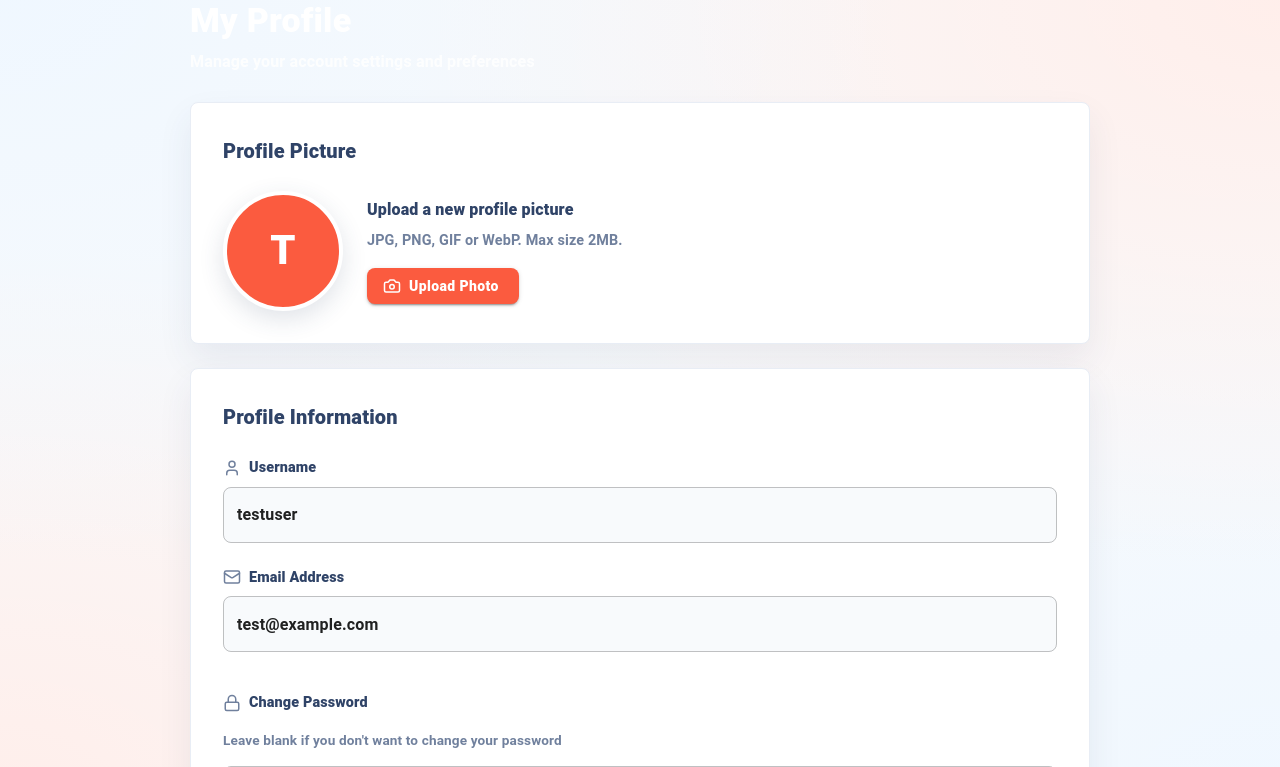
Profile Page › Form Validation › should show error for username less than 3 characters
This screenshot has width=1280, height=767.
Replace the text in the field with placeholder "Enter your username" below "Username" with "ab" at (640, 515), box [223,487,1057,543]
(page scrolled)
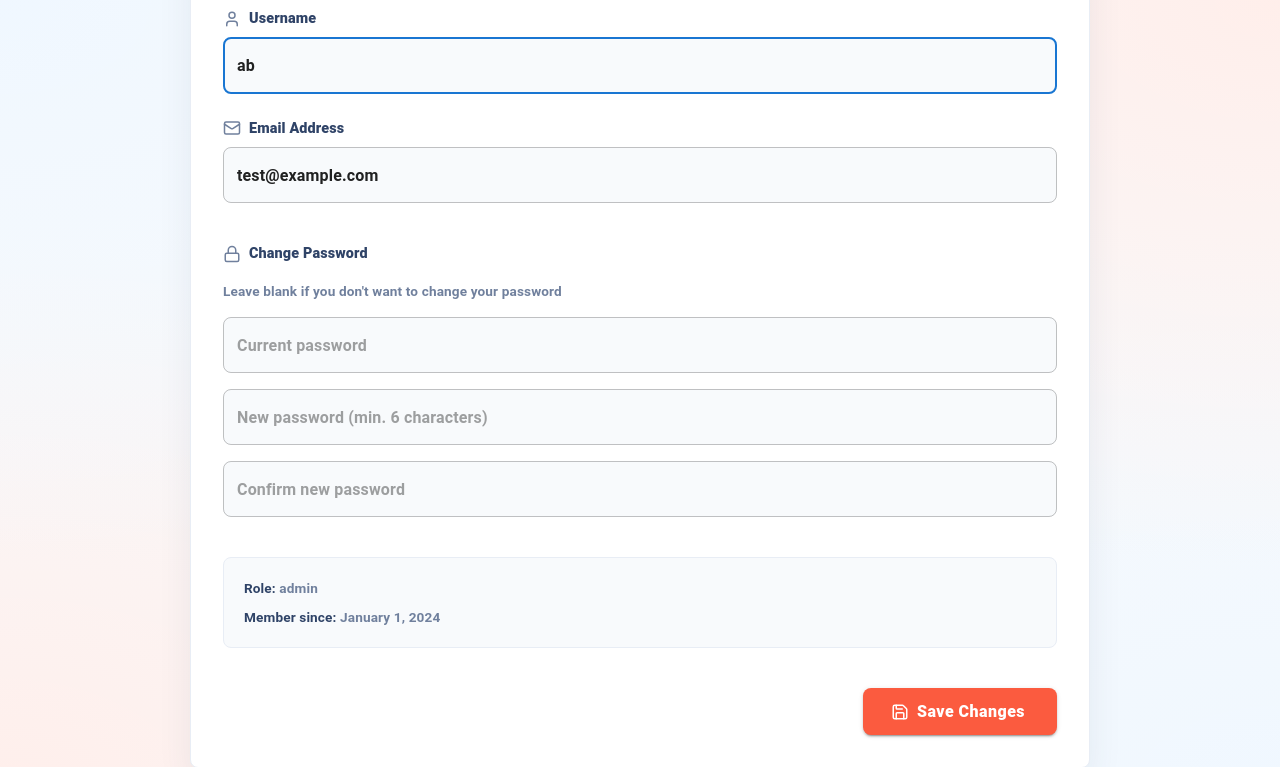
Click the button "Save Changes" at (960, 712), box [863,688,1057,735]
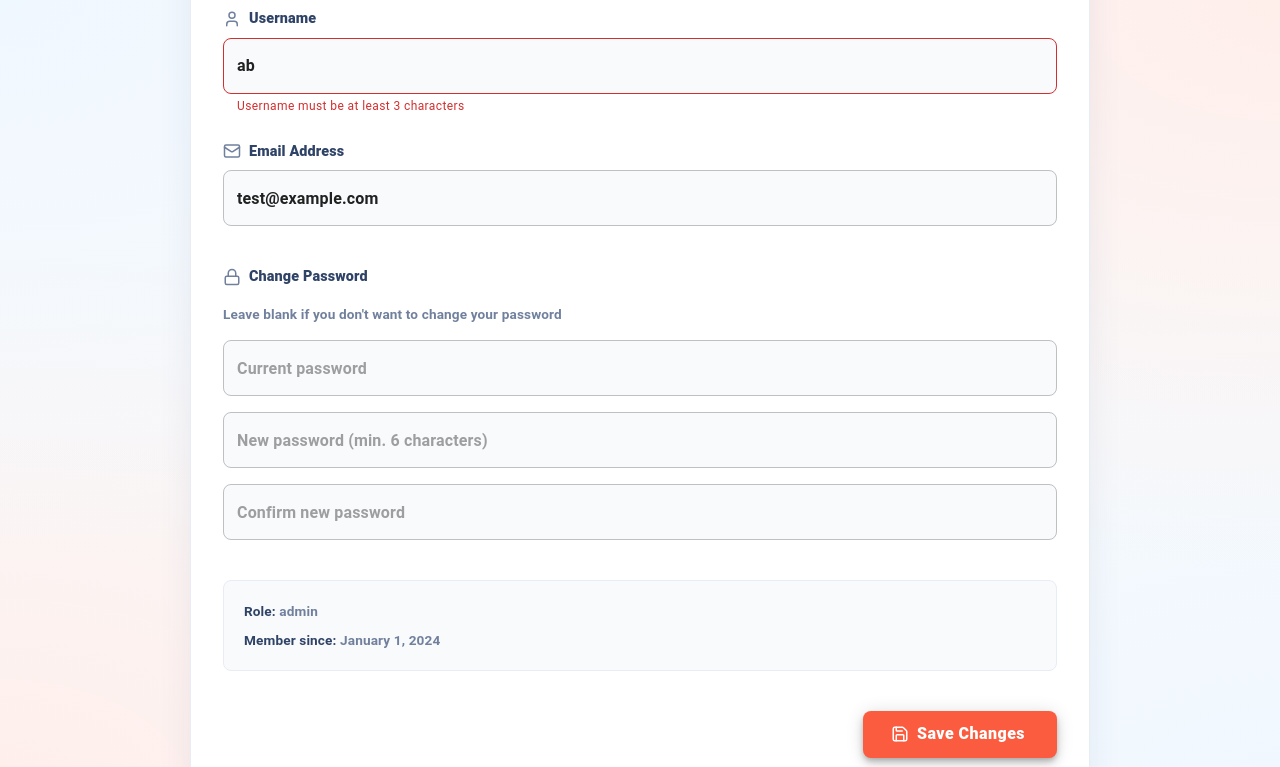
expect the text "Username must be at least 3 characters" is shown: met, box [237,99,465,113]
